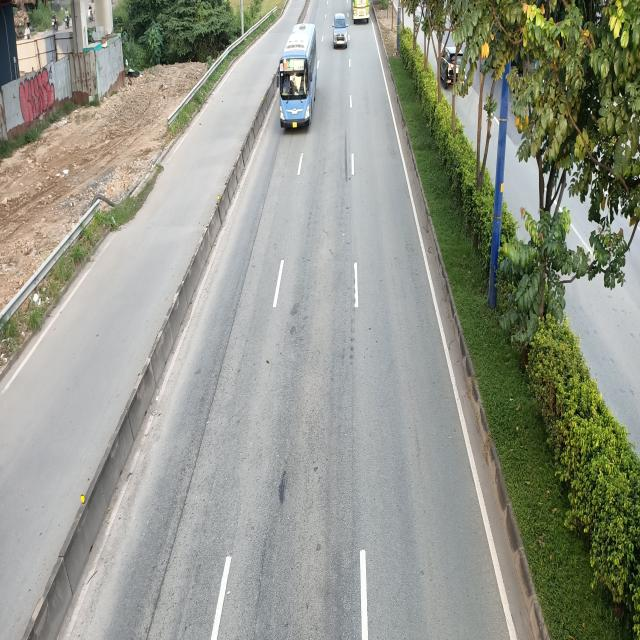car: (334, 13, 349, 48)
coach: (274, 25, 319, 132)
